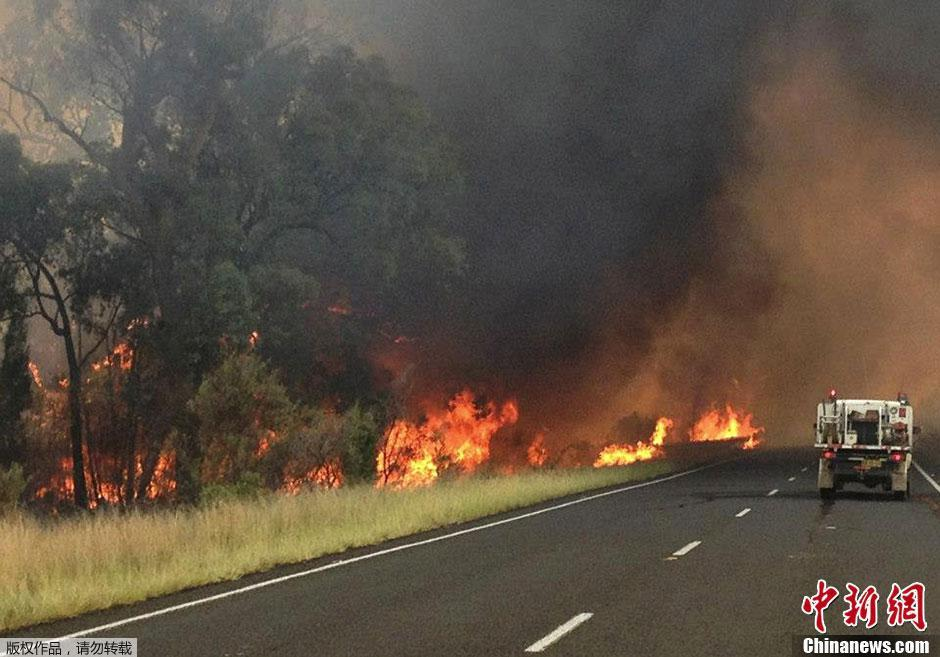fire: (375, 381, 526, 482), (90, 443, 183, 509), (594, 407, 674, 472), (687, 396, 772, 455), (277, 457, 339, 499), (40, 452, 81, 502), (90, 332, 134, 370), (24, 349, 51, 394), (244, 417, 277, 452)
